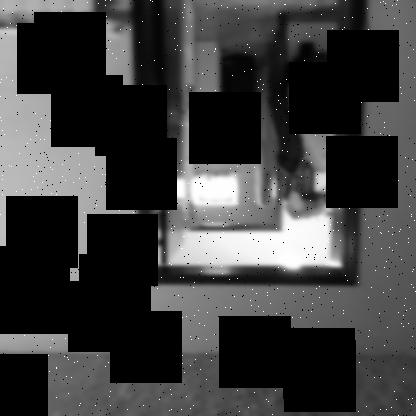Porte: (132, 0, 368, 290)
